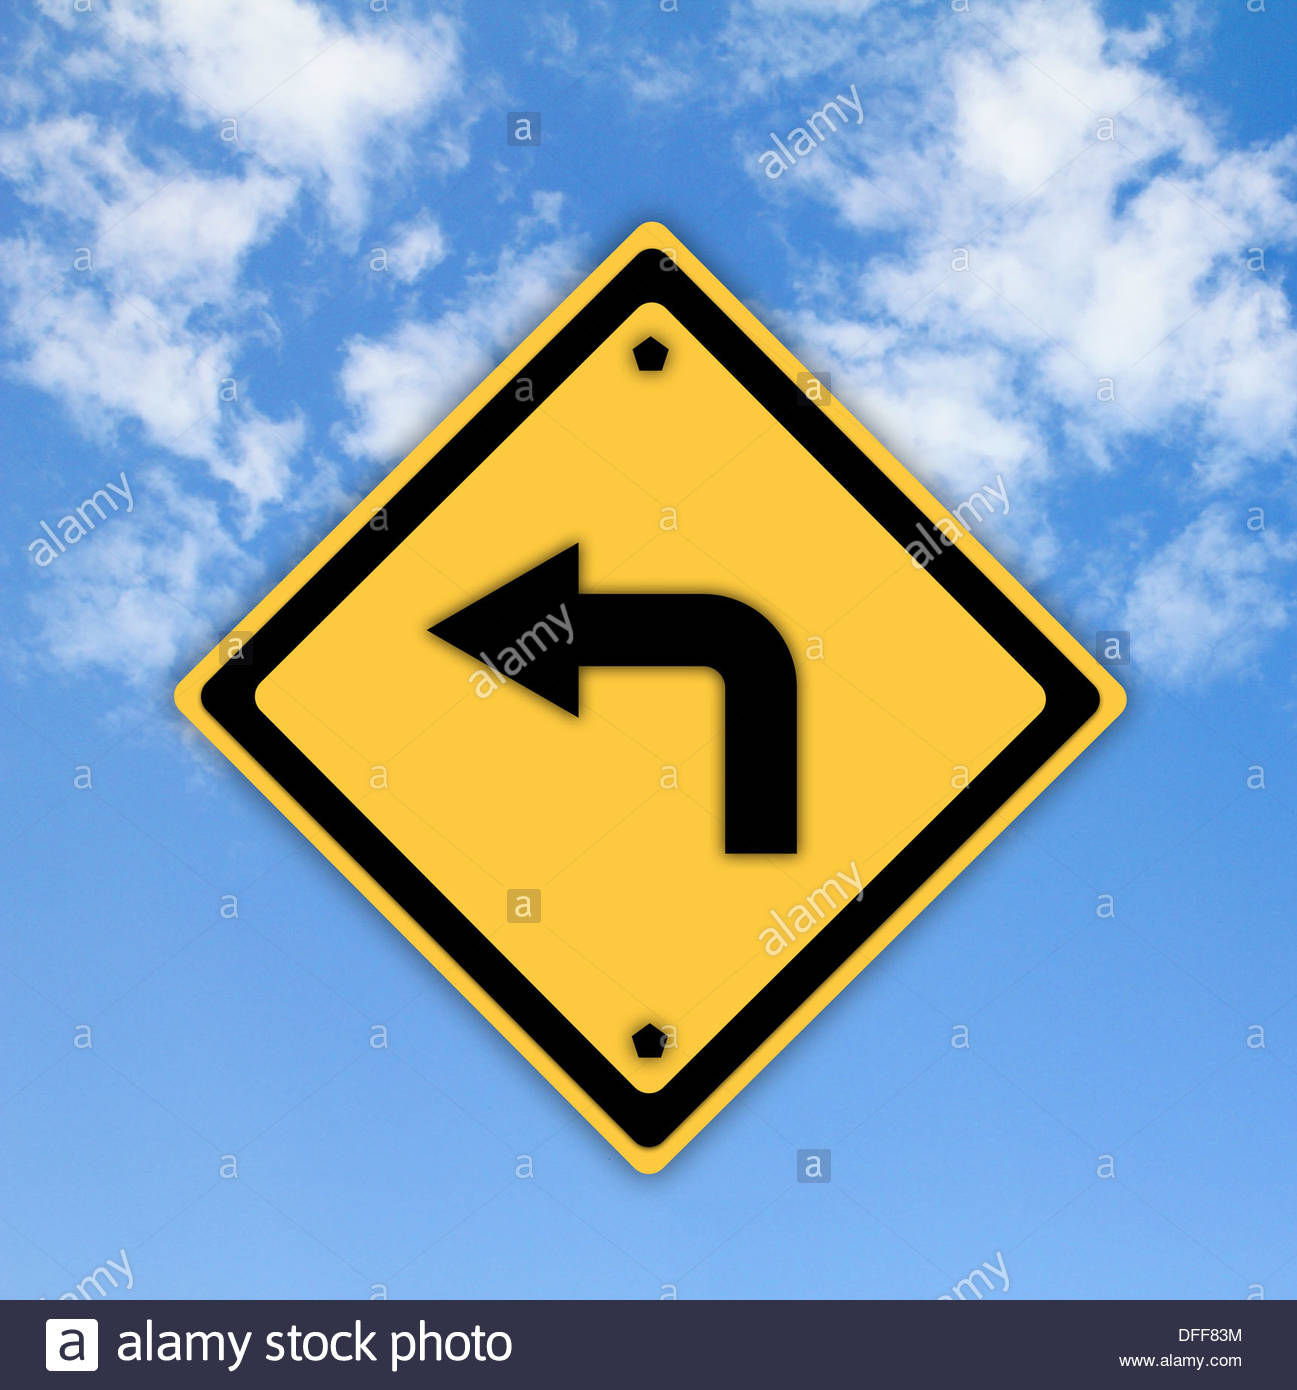left: (169, 216, 1140, 1185)
